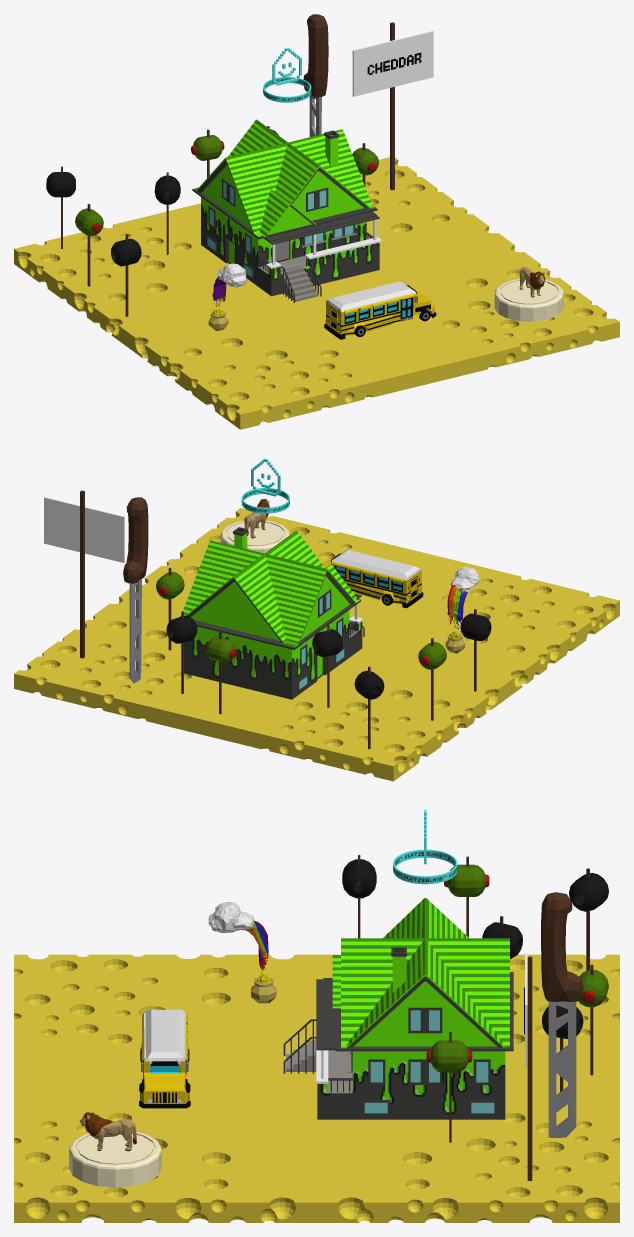
The picture shows the model from 3 angles, top to bottom: view 1: azimuth 30°, elevation 25°; view 2: azimuth 150°, elevation 25°; view 3: azimuth 270°, elevation 25°; orthographic projection. The views are drawn at different scales.
Parts seen in each view (by area): view 1: Cube.022, Cube.754, Cube.023, VEHICLES_SCHOOL_BUS, Cylinder.016, Cube.024, OBJRANDOM_RAINBOW, TYPE_PREMIUM, Sphere.017, Sphere.018, Sphere.016, Sphere.020 (+2 smaller); view 2: Cube.022, Cube.754, Cube.023, VEHICLES_SCHOOL_BUS, Cube.024, OBJRANDOM_RAINBOW, Cylinder.016, TYPE_PREMIUM, Sphere.021, Sphere.017, Sphere.020, Sphere.022 (+4 smaller); view 3: Cube.022, Cube.754, Cube.024, VEHICLES_SCHOOL_BUS, Cylinder.016, OBJRANDOM_RAINBOW, Cube.023, Sphere.019, Sphere.016, TYPE_PREMIUM, Sphere.017, Sphere.018 (+4 smaller).
Boxes of the visible parts, x1,y1,x2,y2 form: Cube.022: (14,157,619,429); Cube.754: (192,119,382,302); Cube.023: (352,22,433,190); VEHICLES_SCHOOL_BUS: (324,281,436,339); Cylinder.016: (494,279,563,321); Cube.024: (303,14,328,136); OBJRANDOM_RAINBOW: (208,263,247,330); TYPE_PREMIUM: (263,47,311,102); Sphere.017: (111,234,141,316); Sphere.018: (75,204,103,286); Sphere.016: (46,166,75,248); Sphere.020: (154,172,180,254); Cube.022: (14,508,619,781); Cube.754: (180,527,364,699); Cube.023: (44,490,124,658); VEHICLES_SCHOOL_BUS: (323,550,423,608); Cube.024: (123,497,148,683); OBJRANDOM_RAINBOW: (445,566,479,653); Cylinder.016: (220,520,289,553); TYPE_PREMIUM: (241,458,289,513); Sphere.021: (166,611,197,693); Sphere.017: (460,609,491,691); Sphere.020: (312,625,342,707); Sphere.022: (205,631,236,714); Cube.022: (14,954,619,1222); Cube.754: (283,898,513,1119); Cube.024: (541,892,583,1137); VEHICLES_SCHOOL_BUS: (139,1009,190,1108); Cylinder.016: (69,1131,161,1187); OBJRANDOM_RAINBOW: (208,902,276,1003); Cube.023: (524,953,532,1180); Sphere.019: (426,1032,472,1142); Sphere.016: (569,868,608,970); TYPE_PREMIUM: (393,810,457,884); Sphere.017: (342,855,376,938); Sphere.018: (444,856,489,937).
Size of the model in its own units: 3917 by 2224 by 4000.
Materials: 45 (5 with a texture image).
